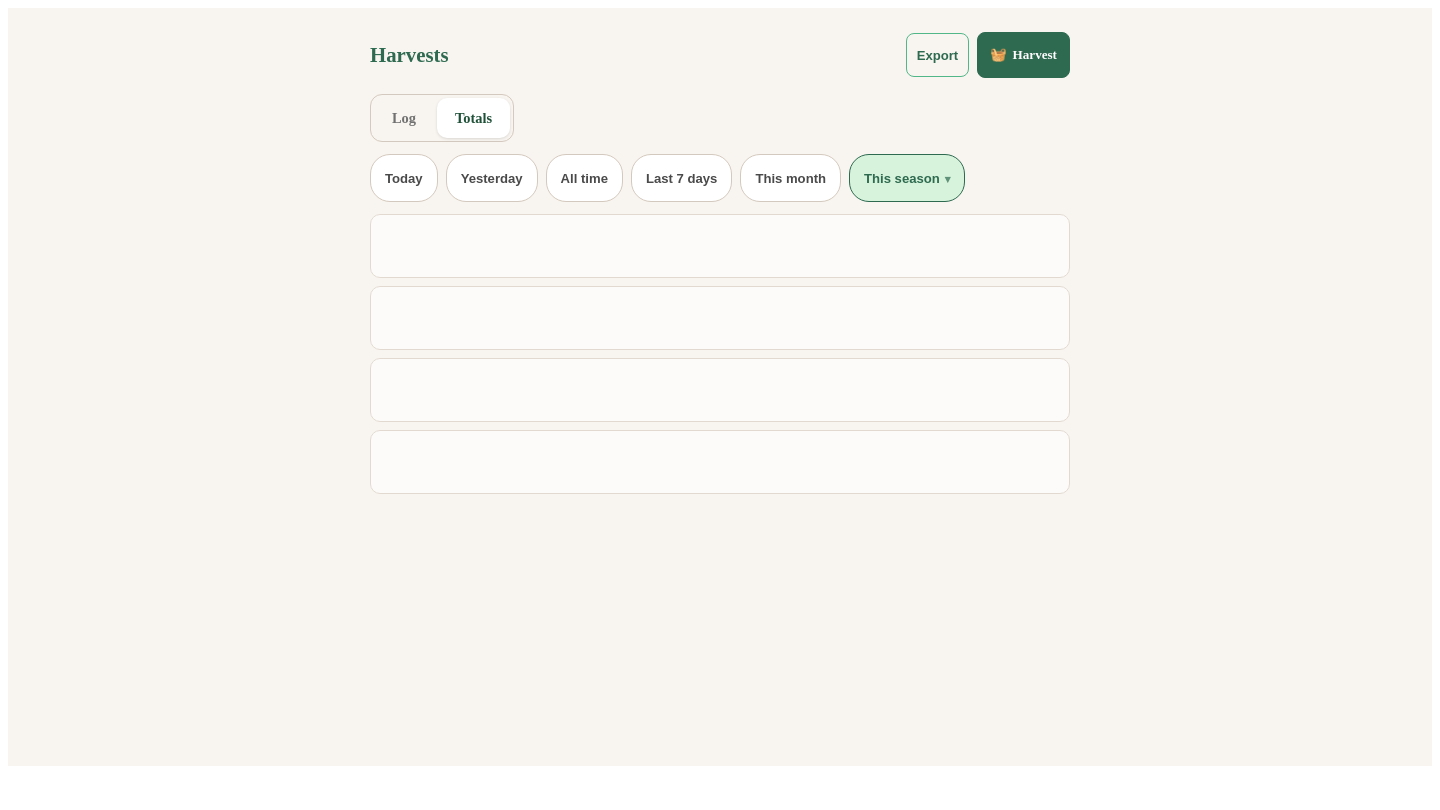
Test: Harvests page › dismisses the crop pill to clear the filter
Click the radio button labelled "Log": (404, 118) x1=374 y1=98 x2=434 y2=138
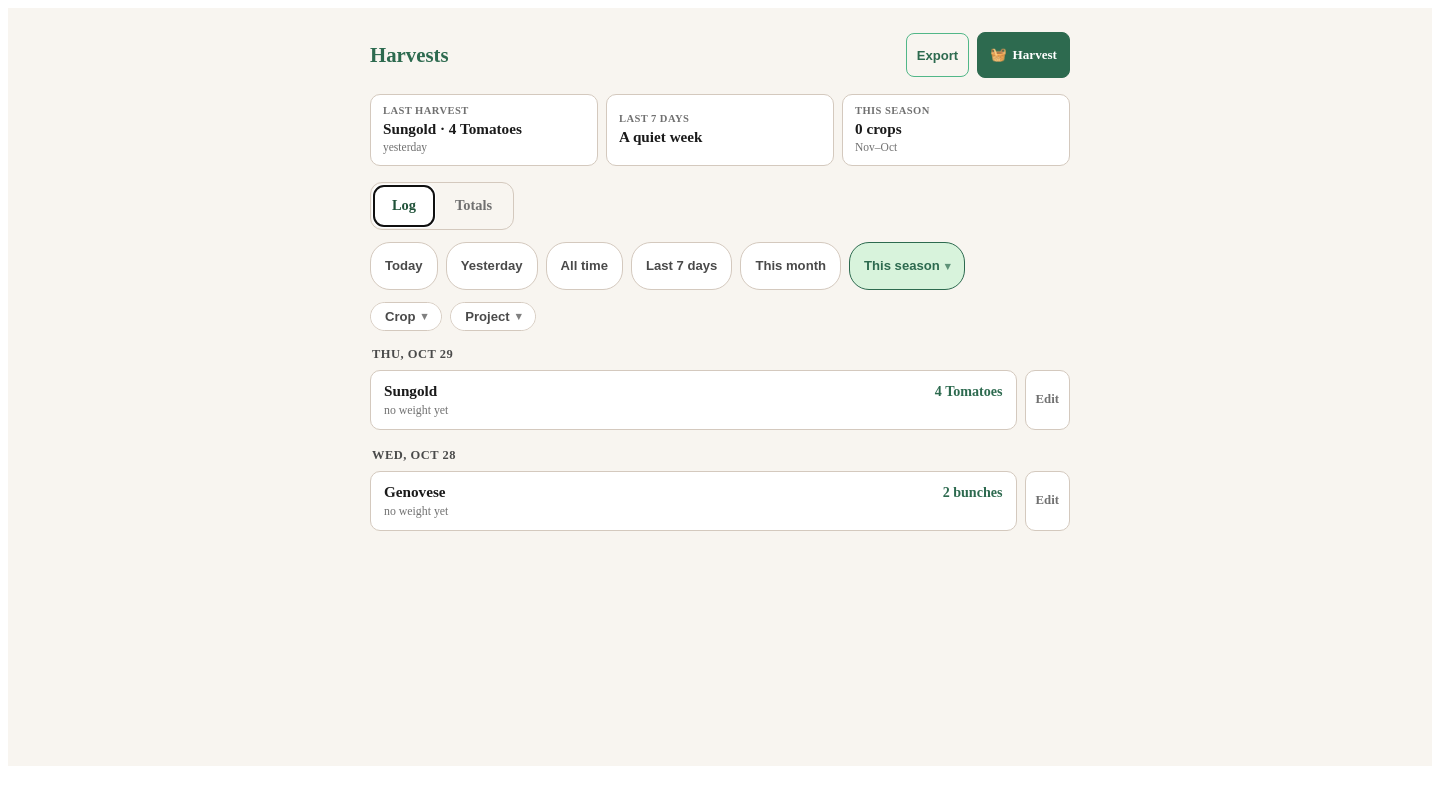
Expected: the text "Genovese" is shown, x1=384 y1=483 x2=446 y2=501
Click the button with aria-label "filter by crop": (406, 316) x1=371 y1=303 x2=441 y2=330
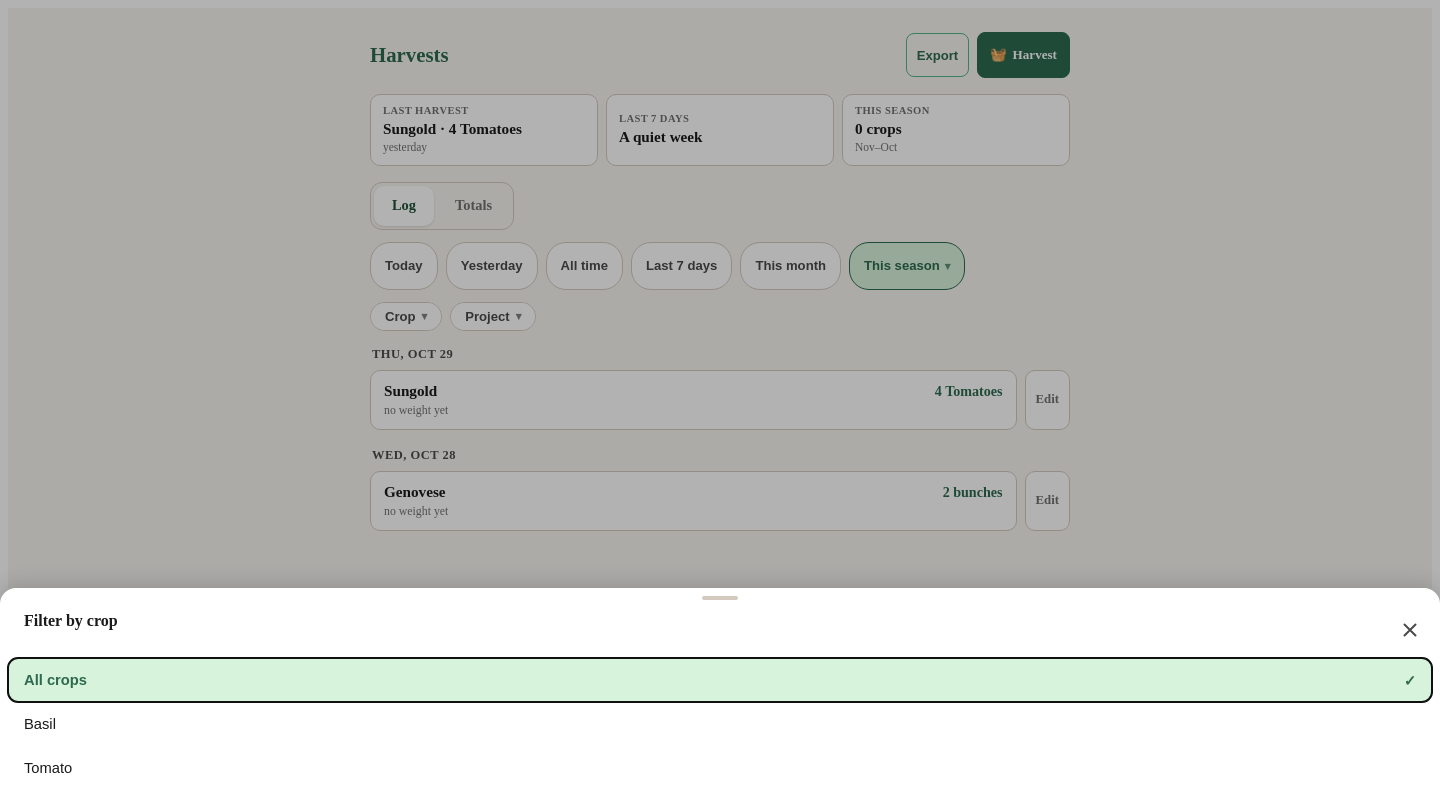
Click the option "Tomato": (48, 768) x1=8 y1=746 x2=1432 y2=790
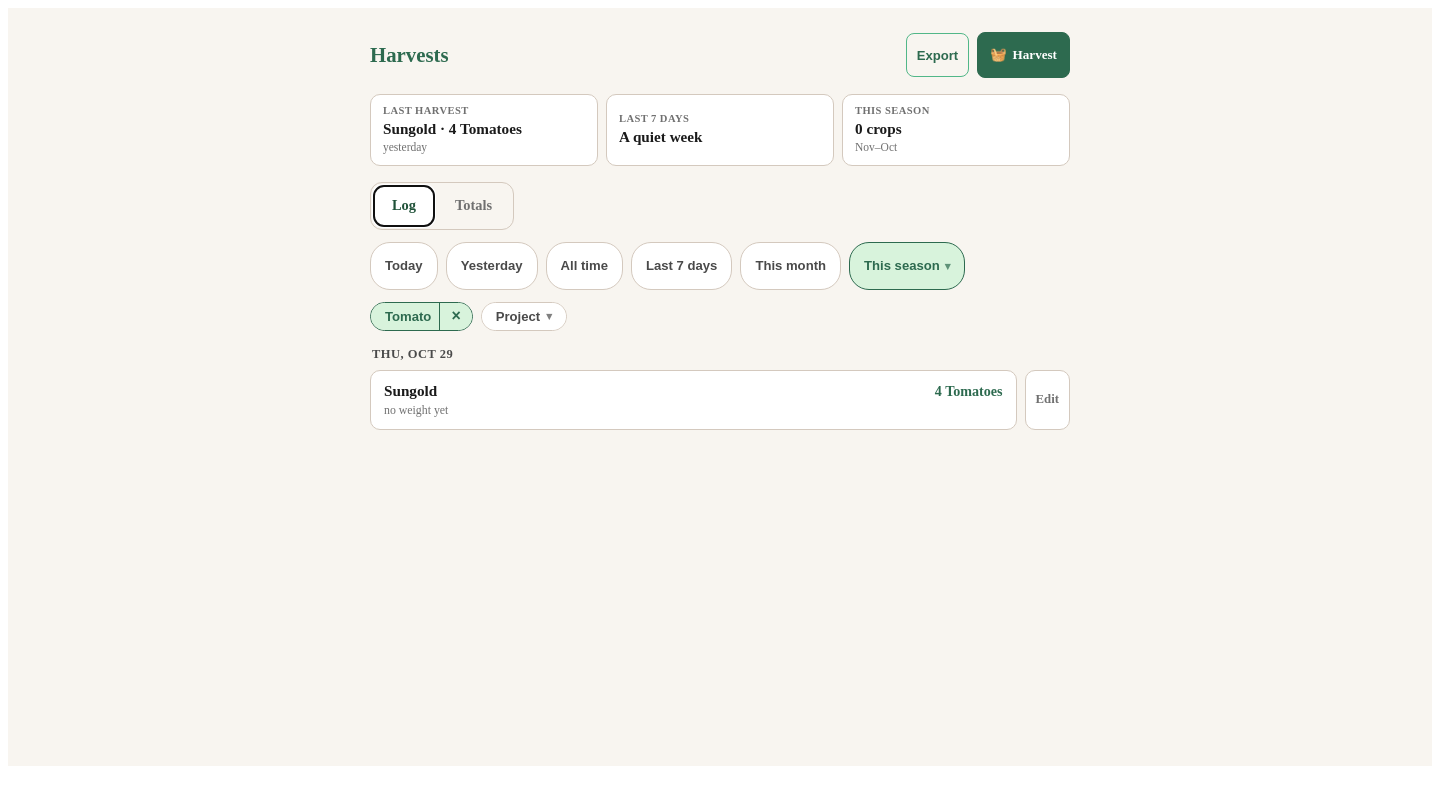
Expected: the link "Genovese" is gone
Click the button named "clear crop filter": (456, 316) x1=439 y1=303 x2=472 y2=330
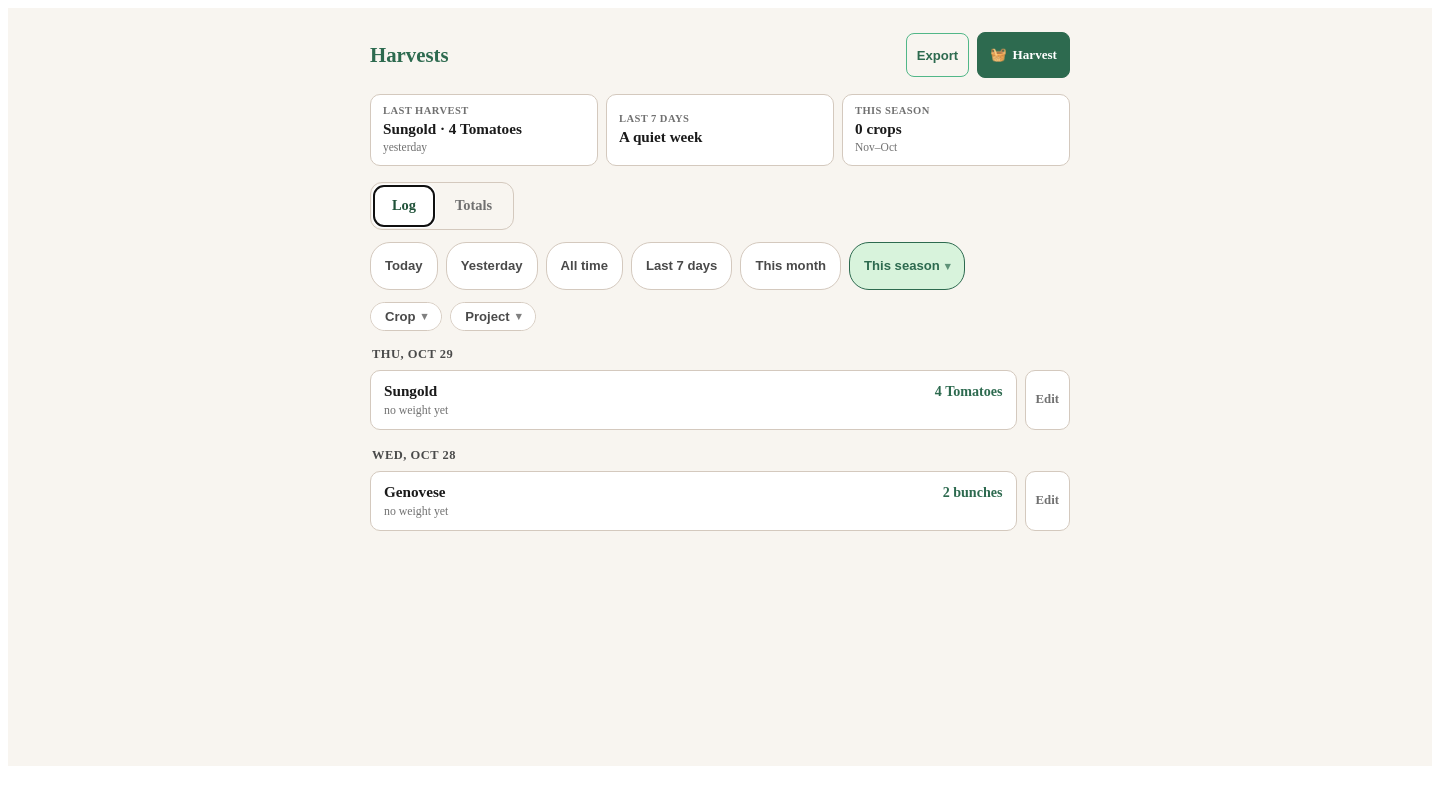
Expected: the text "Genovese" is shown, x1=384 y1=483 x2=446 y2=501
